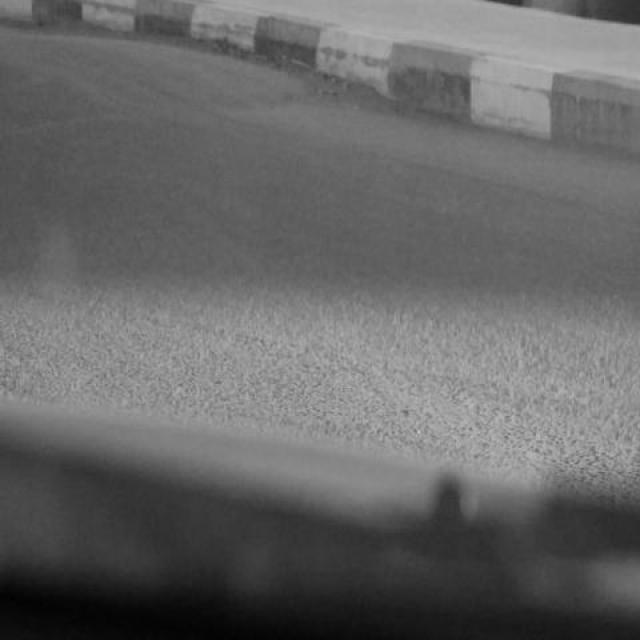Unmarked Bump: (0, 15, 315, 134)
